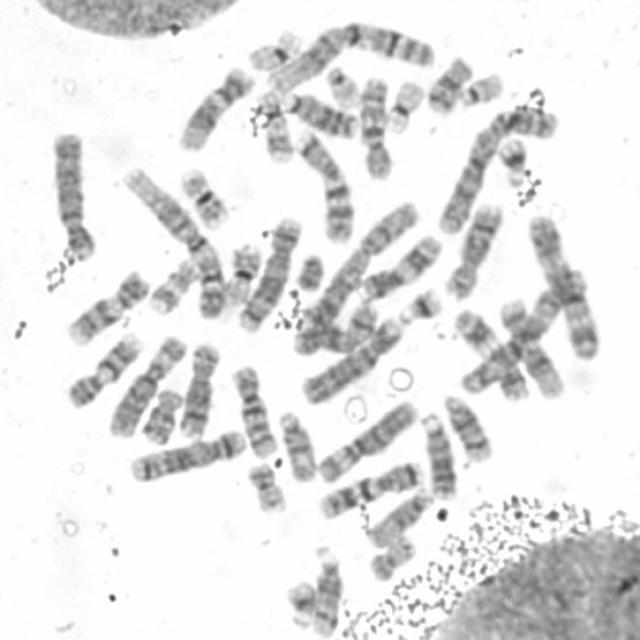A1: (119, 163, 228, 321), (259, 17, 436, 94)
A2: (290, 196, 421, 357), (434, 101, 560, 236)
A3: (454, 265, 592, 398), (524, 211, 603, 363)
B4: (296, 314, 404, 406), (47, 127, 97, 263)
B5: (234, 212, 303, 335), (124, 426, 248, 484)
C10: (227, 360, 278, 460), (356, 71, 394, 182)
C11: (450, 307, 530, 413), (356, 230, 444, 302)
C12: (173, 63, 256, 154), (497, 304, 574, 401)
C6: (314, 396, 418, 485), (104, 333, 188, 437)
C7: (292, 126, 355, 246), (312, 456, 426, 521)
C8: (439, 199, 505, 301), (174, 338, 222, 439)
C9: (63, 265, 151, 348), (62, 327, 144, 410)
D13: (279, 87, 359, 141), (417, 407, 458, 502)
D14: (441, 390, 494, 464), (306, 543, 344, 639)
D15: (362, 485, 436, 549), (274, 407, 318, 484)
E16: (175, 164, 231, 229), (219, 239, 265, 307)
E17: (144, 255, 201, 318), (255, 88, 294, 166)
E18: (422, 52, 473, 116), (136, 385, 186, 446)
F19: (243, 26, 304, 72), (383, 77, 425, 136)
F20: (364, 532, 418, 580), (244, 458, 288, 514)
G21: (394, 284, 443, 327), (282, 578, 320, 628), (495, 134, 530, 187)
G22: (454, 69, 506, 108), (322, 60, 361, 110)
X: (287, 297, 381, 357)
Y: (293, 250, 325, 293)
